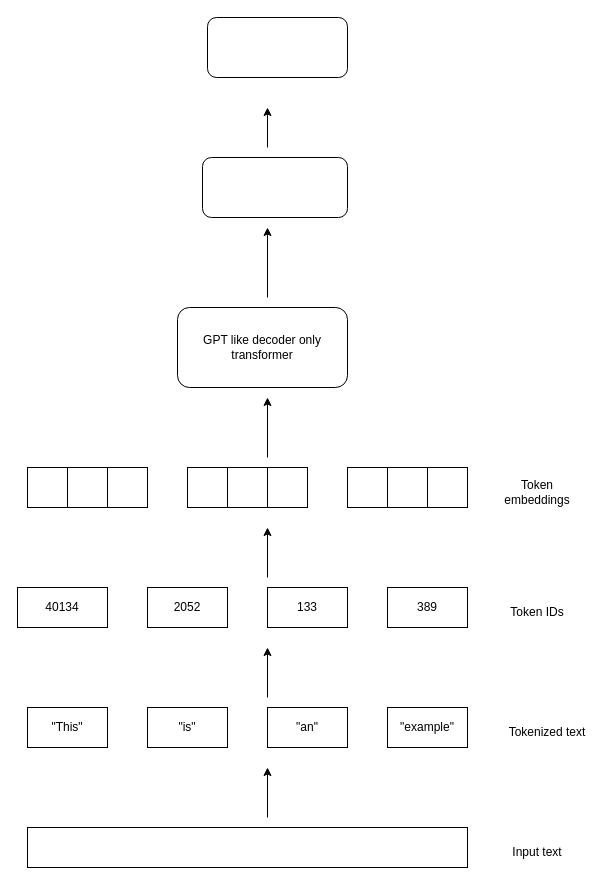
Some shapes in this 605 by 885 pixel diagram are drawn without their labels. Each missing label, with the centre of its shape:
"This is an example": [247,847]
Output text: [277,47]
Pre-processing: [275,187]
